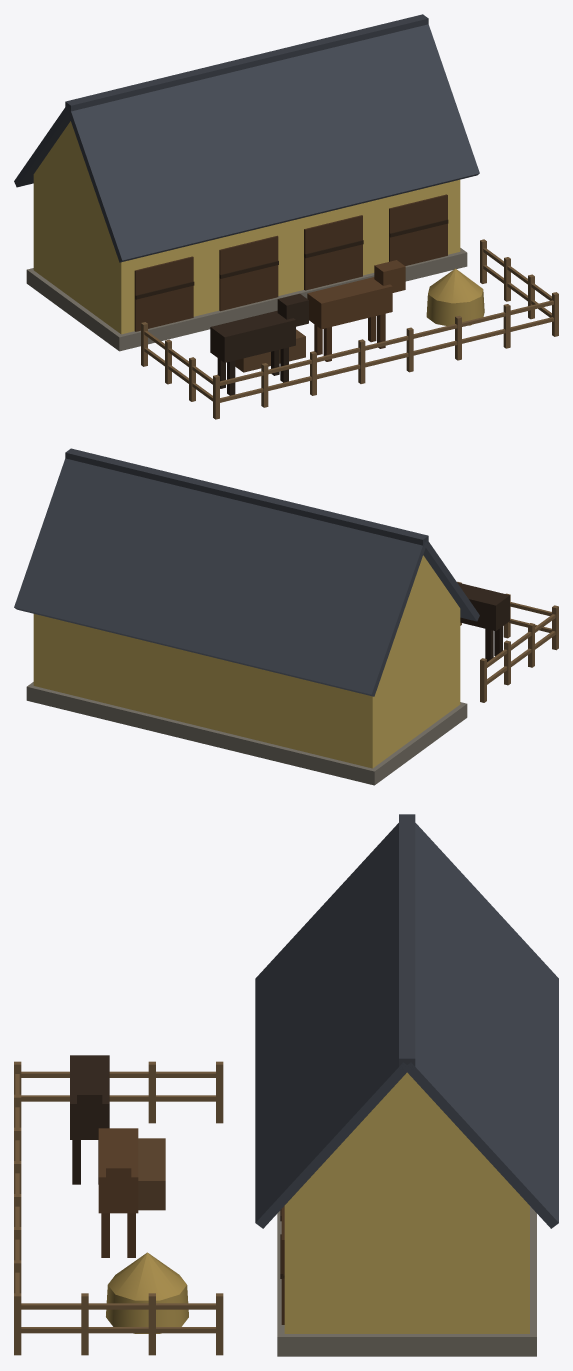
The model's file is procedural_stable@4.glb.
3 renders of one model, top to bottom at view 1: azimuth 30°, elevation 25°; view 2: azimuth 150°, elevation 25°; view 3: azimuth 270°, elevation 25°, orthographic. The views are drawn at different scales.
Parts seen in each view (by area): view 1: part_0; view 2: part_0; view 3: part_0.
Part boxes in pixels (bbox=[...]): part_0: bbox=[14, 14, 558, 419]; part_0: bbox=[14, 448, 558, 785]; part_0: bbox=[14, 814, 558, 1356].
Bounding box in the file's own units: 8.02 × 4.61 × 7.55.
